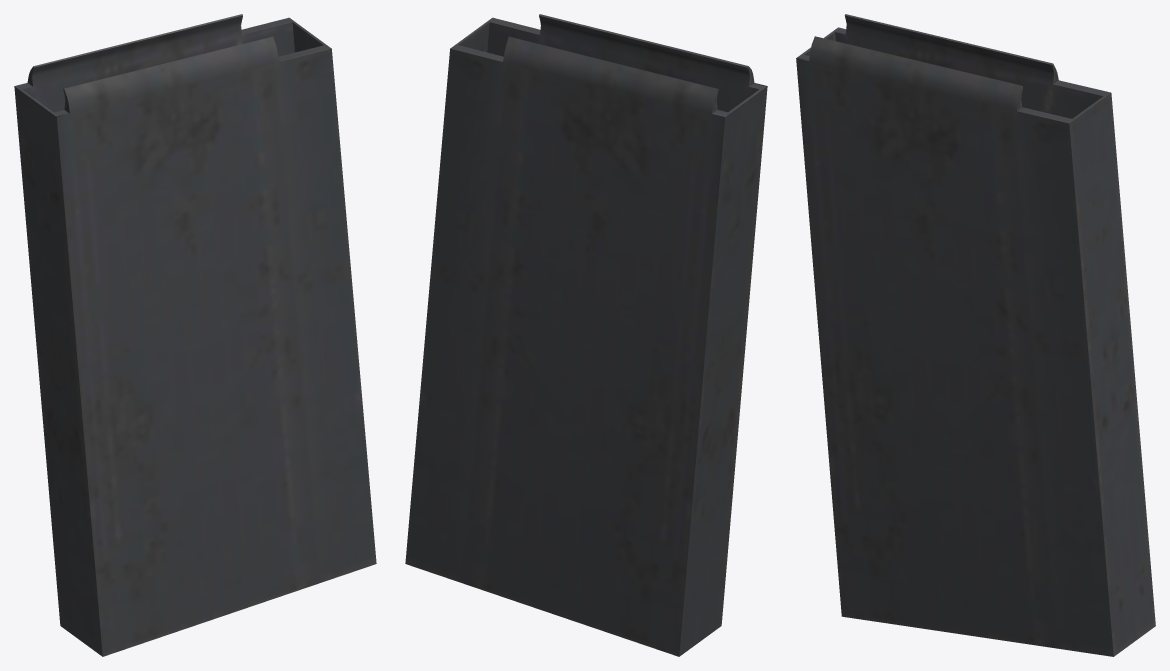
File: ST_MAG_EX_MK14.FBX
3 views of the same model, side by side, from view 1: azimuth 30°, elevation 25°; view 2: azimuth 150°, elevation 25°; view 3: azimuth 330°, elevation 25° (orthographic).
Parts seen in each view (by area): view 1: ST_MAG_EX_MK14; view 2: ST_MAG_EX_MK14; view 3: ST_MAG_EX_MK14.
Part boxes in pixels (<box>): ST_MAG_EX_MK14: <box>14,14,376,656</box>; ST_MAG_EX_MK14: <box>405,14,767,656</box>; ST_MAG_EX_MK14: <box>796,14,1155,656</box>.
Size of the model in its own units: 7.7 by 13.19 by 1.77.
Materials: 1 (1 with a texture image).
